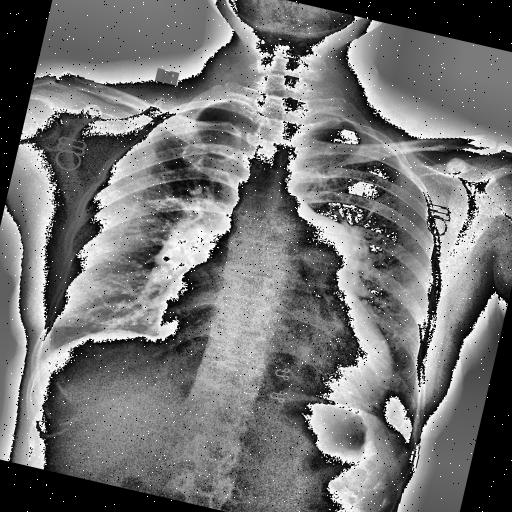3- Cardiomegaly: (144, 265, 402, 418), (146, 278, 402, 416), (146, 286, 398, 410)
7- Lung Opacity: (280, 206, 357, 286)
8- Nodule-Mass: (279, 208, 357, 280)
9- Other lesion: (280, 206, 357, 286)
